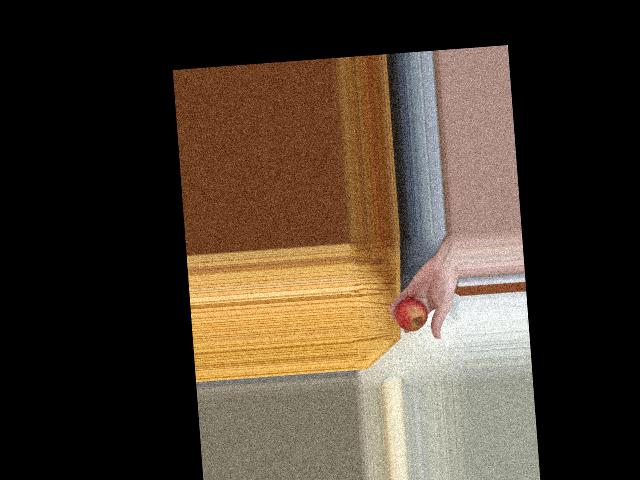apple: (394, 294, 431, 332)
